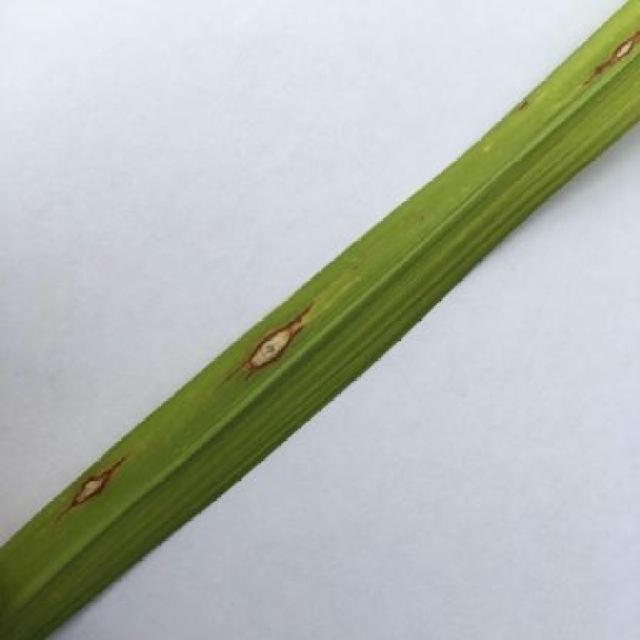Bacterial_Leaf_Blight: (212, 256, 318, 389), (42, 418, 142, 527), (572, 0, 639, 92)
